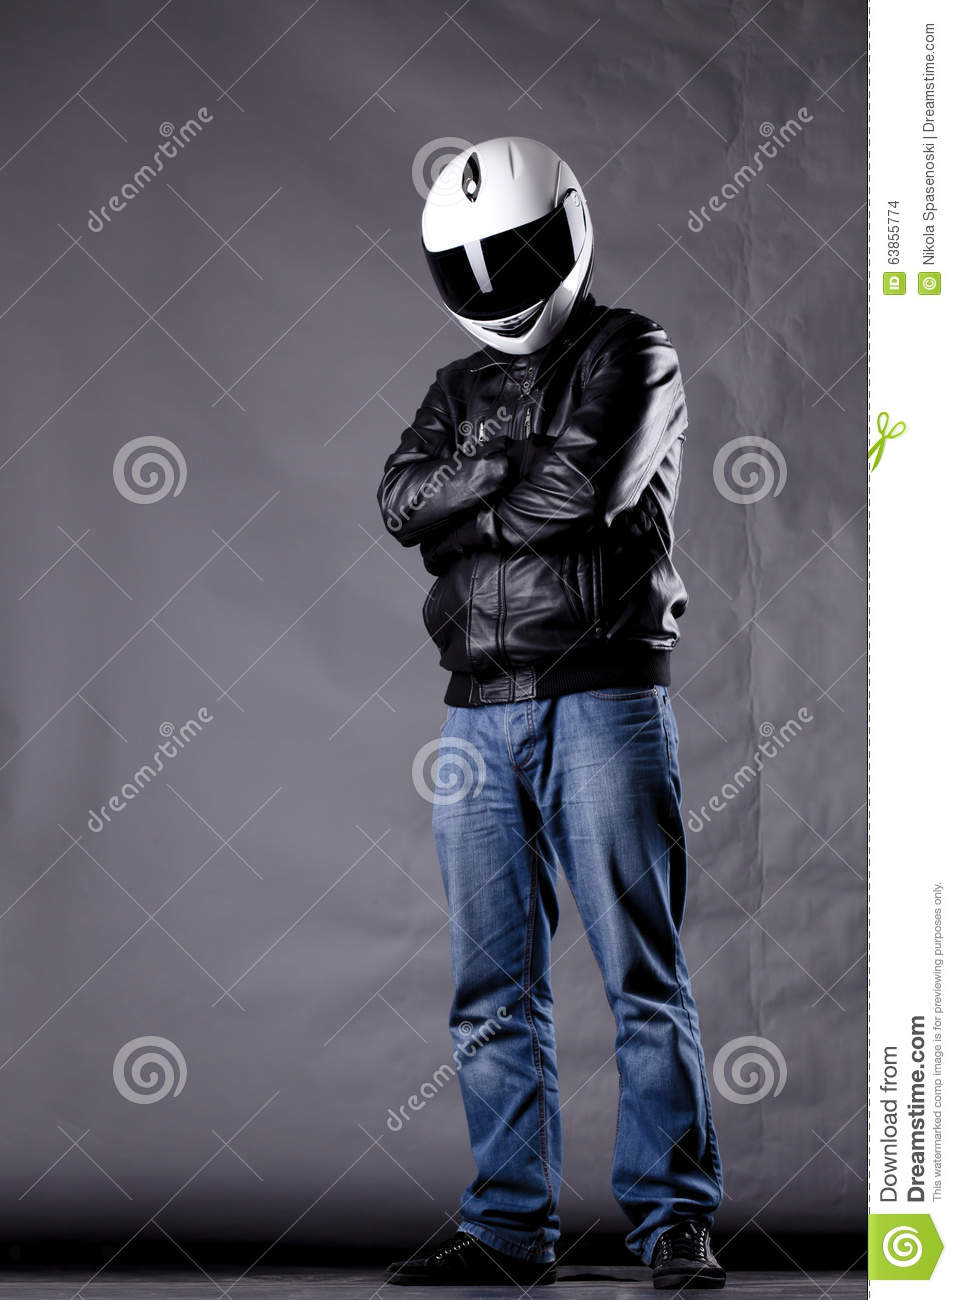helmet: (404, 121, 610, 365)
